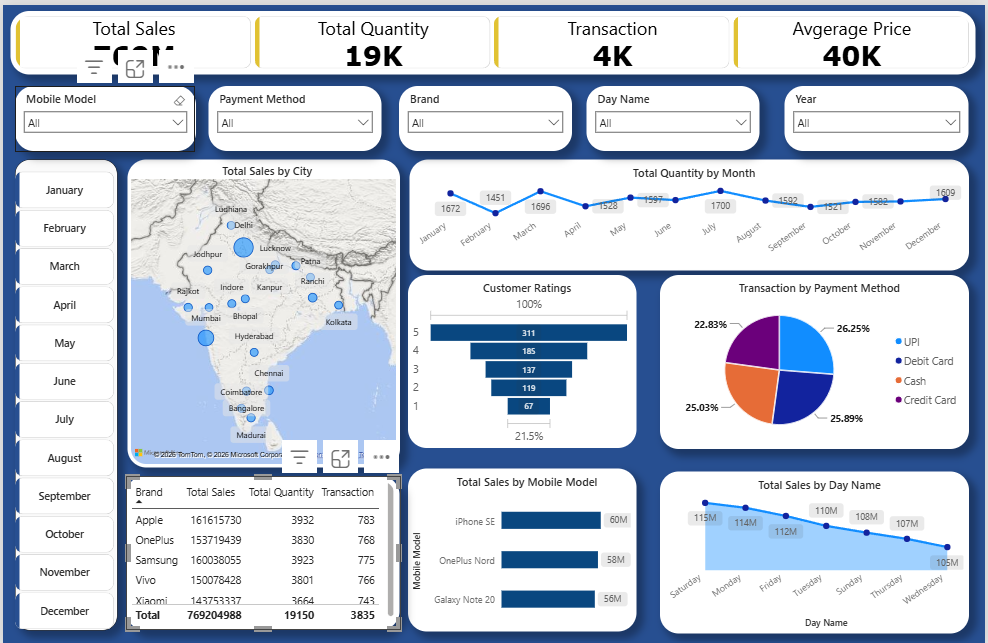

The page's visual inventory and layout, read from the dashboard file:
{"tool":"powerbi","page":{"name":"Page 1","canvas":[1309,854],"ordinal":0},"visuals":[{"type":"cardVisual","fields":{"Data":["Sales_data dashboard.Total_sales","Sales_data dashboard.Total Quantity","Sales_data dashboard.Transaction","Sales_data dashboard.Avgerage Price"]},"box":[10.9,8.7,1287,84.8],"z":0},{"type":"shape","box":[15.2,206.5,137,628.3],"z":1000},{"type":"advancedSlicerVisual","fields":{"Values":["Sales_data dashboard.Date.Variation.Date Hierarchy.Month"]},"box":[15.2,221.7,132.6,613],"z":2000},{"type":"map","fields":{"Category":["Sales_data dashboard.City"],"Size":["Sales_data dashboard.Total Sales"]},"box":[165.2,206.5,363,410.9],"z":3000},{"type":"lineChart","fields":{"Y":["Sales_data dashboard.Total Quantity"],"Category":["Sales_data dashboard.Date.Variation.Date Hierarchy.Month"]},"box":[546,207,757.1,148.6],"z":4000},{"type":"barChart","fields":{"Category":["Sales_data dashboard.Mobile Model"],"Y":["Sales_data dashboard.Total Sales"]},"box":[544.3,604.3,321.4,230],"z":5000},{"type":"pieChart","fields":{"Category":["Sales_data dashboard.Payment Method"],"Y":["Sales_data dashboard.Transaction"]},"box":[875.7,360,422.9,231.4],"z":6000},{"type":"funnel","title":"Customer Ratings ","fields":{"Category":["Sales_data dashboard.Customer Ratings"],"Y":["CountNonNull(Sales_data dashboard.Transaction ID)"]},"box":[546,362,320,230],"z":7000},{"type":"areaChart","fields":{"Category":["Sales_data dashboard.Day Name"],"Y":["Sales_data dashboard.Total Sales"]},"box":[875.7,604.3,422.9,234.3],"z":8000},{"type":"tableEx","fields":{"Values":["Sales_data dashboard.Brand","Sales_data dashboard.Total Sales","Sales_data dashboard.Total Quantity","Sales_data dashboard.Transaction"]},"box":[164.8,627.8,364.8,205.6],"z":9000},{"type":"slicer","fields":{"Values":["Sales_data dashboard.Mobile Model"]},"box":[15.2,108.7,241.3,87],"z":10000},{"type":"slicer","fields":{"Values":["Sales_data dashboard.Payment Method"]},"box":[273.9,108.7,230.4,87],"z":11000},{"type":"slicer","fields":{"Values":["Sales_data dashboard.Brand"]},"box":[528.3,108.7,230.4,87],"z":12000},{"type":"slicer","fields":{"Values":["Sales_data dashboard.Day Name"]},"box":[778.3,108.7,230.4,87],"z":13000},{"type":"slicer","fields":{"Values":["Sales_data dashboard.Date.Variation.Date Hierarchy.Year"]},"box":[1041.4,108.6,257.1,87.1],"z":14000}]}

Visuals, with their boxes in screenshot pixels (x1, y1, x2, y2), scaled from the page's 1309x854 canvas onto the 988x643 screenshot:
cardVisual - Sales_data dashboard.Total_sales x Sales_data dashboard.Total Quantity: [x1=8, y1=7, x2=980, y2=70]
shape: [x1=11, y1=155, x2=115, y2=629]
advancedSlicerVisual - Sales_data dashboard.Date.Variation.Date Hierarchy.Month: [x1=11, y1=167, x2=112, y2=628]
map - Sales_data dashboard.City x Sales_data dashboard.Total Sales: [x1=125, y1=155, x2=399, y2=465]
lineChart - Sales_data dashboard.Total Quantity x Sales_data dashboard.Date.Variation.Date Hierarchy.Month: [x1=412, y1=156, x2=984, y2=268]
barChart - Sales_data dashboard.Mobile Model x Sales_data dashboard.Total Sales: [x1=411, y1=455, x2=653, y2=628]
pieChart - Sales_data dashboard.Payment Method x Sales_data dashboard.Transaction: [x1=661, y1=271, x2=980, y2=445]
"Customer Ratings " funnel: [x1=412, y1=273, x2=654, y2=446]
areaChart - Sales_data dashboard.Day Name x Sales_data dashboard.Total Sales: [x1=661, y1=455, x2=980, y2=631]
tableEx - Sales_data dashboard.Brand x Sales_data dashboard.Total Sales: [x1=124, y1=473, x2=400, y2=627]
slicer - Sales_data dashboard.Mobile Model: [x1=11, y1=82, x2=194, y2=147]
slicer - Sales_data dashboard.Payment Method: [x1=207, y1=82, x2=381, y2=147]
slicer - Sales_data dashboard.Brand: [x1=399, y1=82, x2=573, y2=147]
slicer - Sales_data dashboard.Day Name: [x1=587, y1=82, x2=761, y2=147]
slicer - Sales_data dashboard.Date.Variation.Date Hierarchy.Year: [x1=786, y1=82, x2=980, y2=147]
